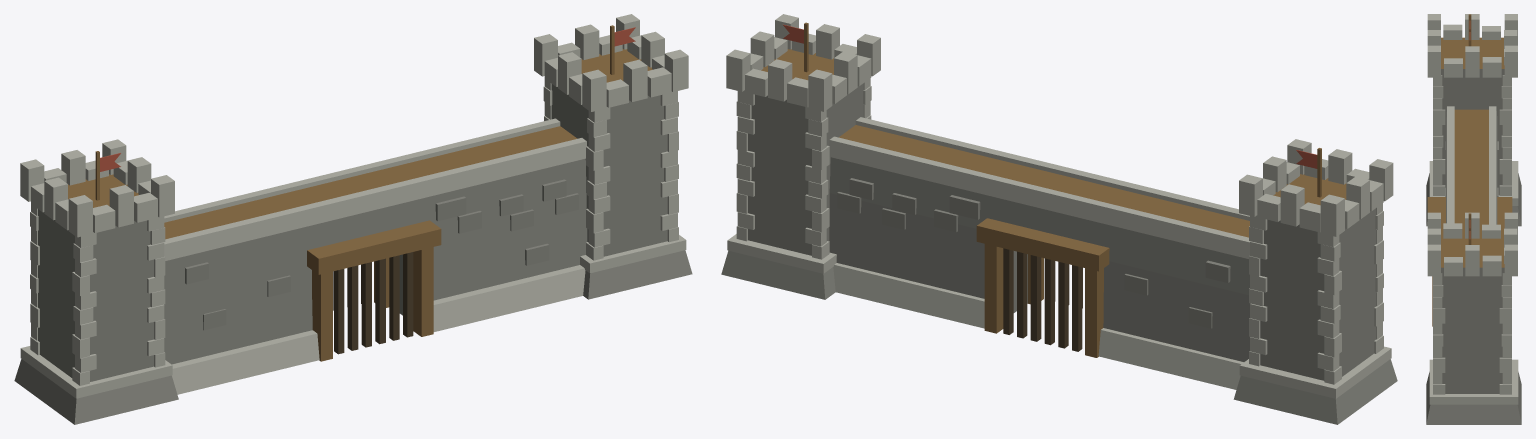
Rendered from Castle Gate.glb.
3 renders of one model, left to right at view 1: azimuth 30°, elevation 25°; view 2: azimuth 150°, elevation 25°; view 3: azimuth 270°, elevation 25°, orthographic. The views are drawn at different scales.
Parts seen in each view (by area): view 1: WallTowers_DoorClosed_SecondAge; view 2: WallTowers_DoorClosed_SecondAge; view 3: WallTowers_DoorClosed_SecondAge.
Boxes of the visible parts, <box> form: WallTowers_DoorClosed_SecondAge: <box>14,14,692,424</box>; WallTowers_DoorClosed_SecondAge: <box>721,14,1397,424</box>; WallTowers_DoorClosed_SecondAge: <box>1426,14,1521,424</box>.
Bounding box in the file's own units: 1.98 × 0.7372 × 0.3334.
